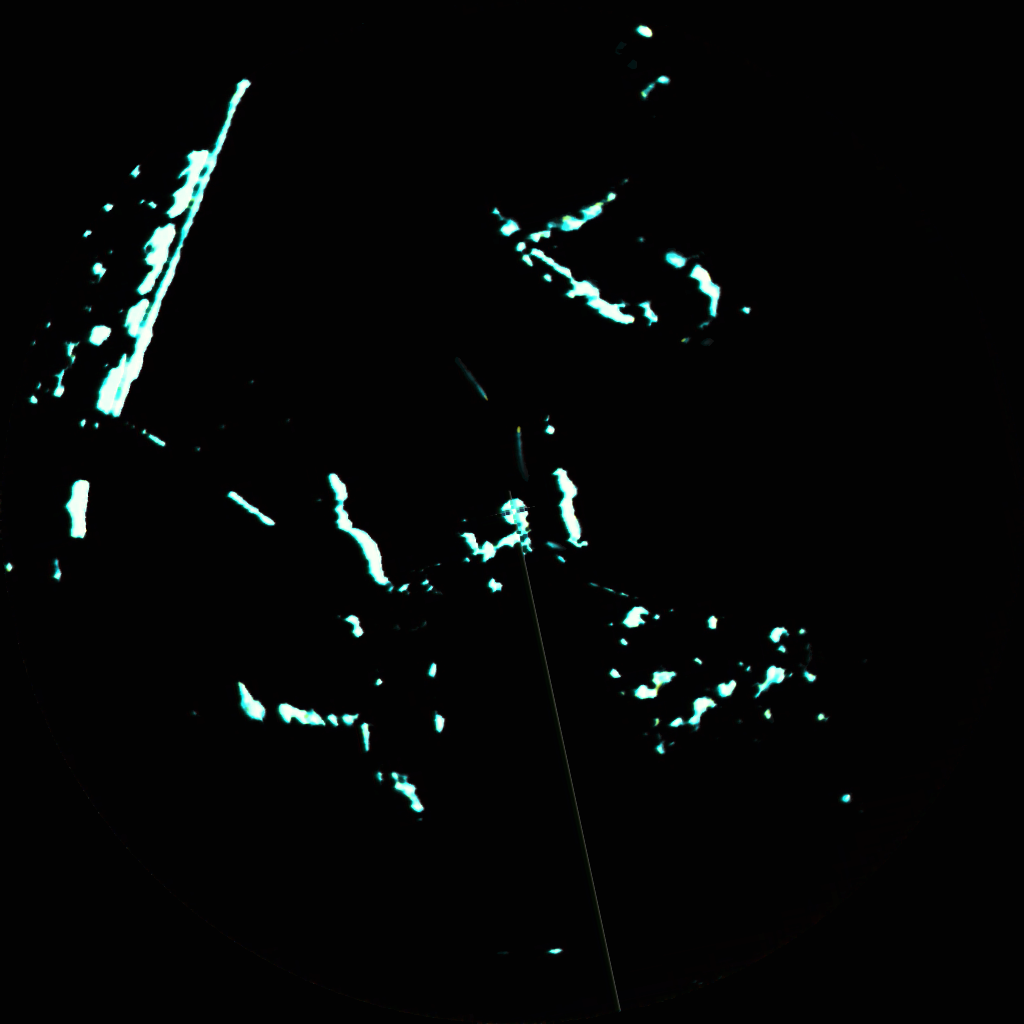B: (462, 365, 487, 399), (515, 425, 522, 452), (546, 540, 560, 548)
